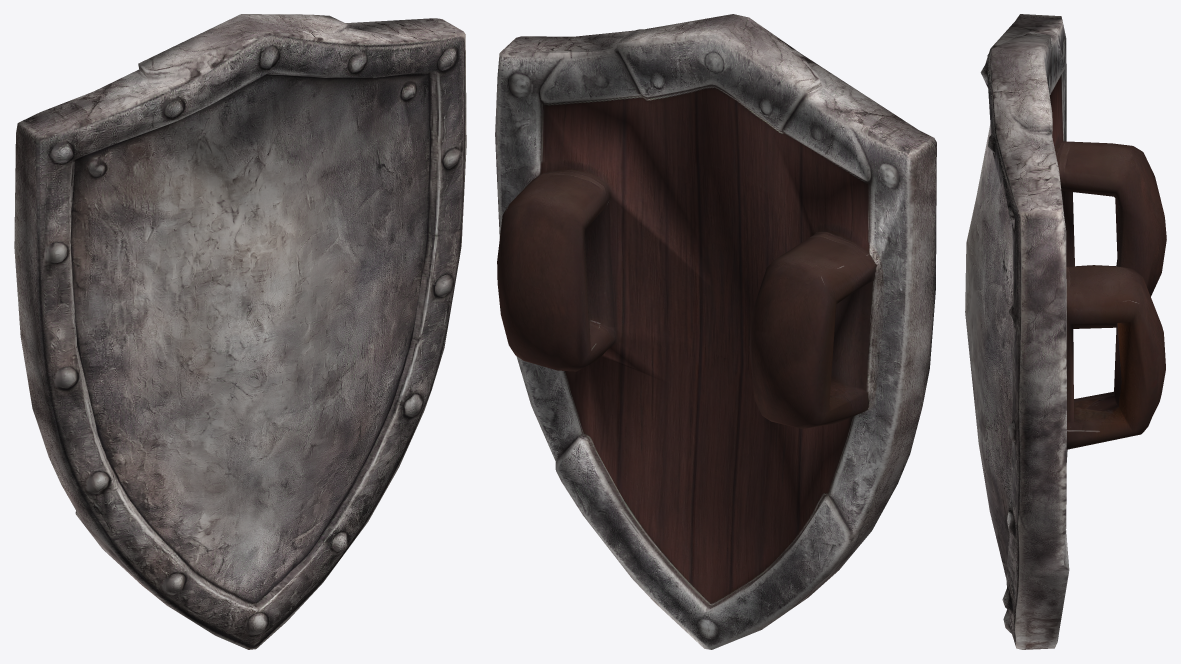
The model's file is Standard.glb.
3 views of the same model, side by side, from view 1: azimuth 30°, elevation 25°; view 2: azimuth 150°, elevation 25°; view 3: azimuth 270°, elevation 25° (orthographic). The views are drawn at different scales.
Visible parts, largest first — view 1: Mesh1.0; view 2: Mesh1.0; view 3: Mesh1.0.
Boxes of the visible parts, <box> form: Mesh1.0: <box>14,14,466,649</box>; Mesh1.0: <box>495,14,936,649</box>; Mesh1.0: <box>965,14,1166,649</box>.
Size of the model in its own units: 1.37 by 1.9 by 0.5837.
Materials: 1 (1 with a texture image).
